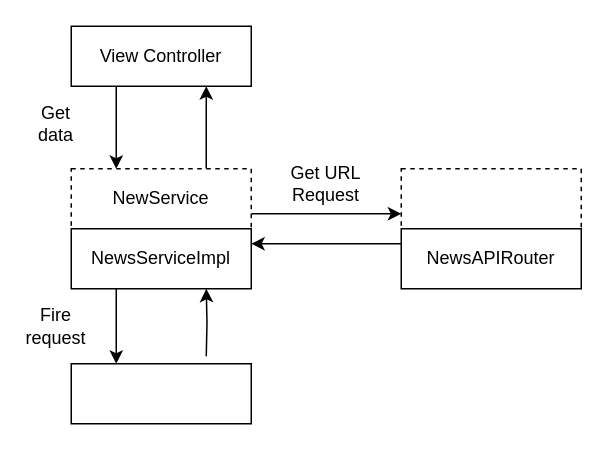
Some shapes in this 608 by 450 pixel diagram are drawn without their labels. The centre of each missing label's shape, as x and y in pixels:
"HTTP Client" belongs at point (160, 393).
"NetworkRoutable" belongs at point (490, 198).
